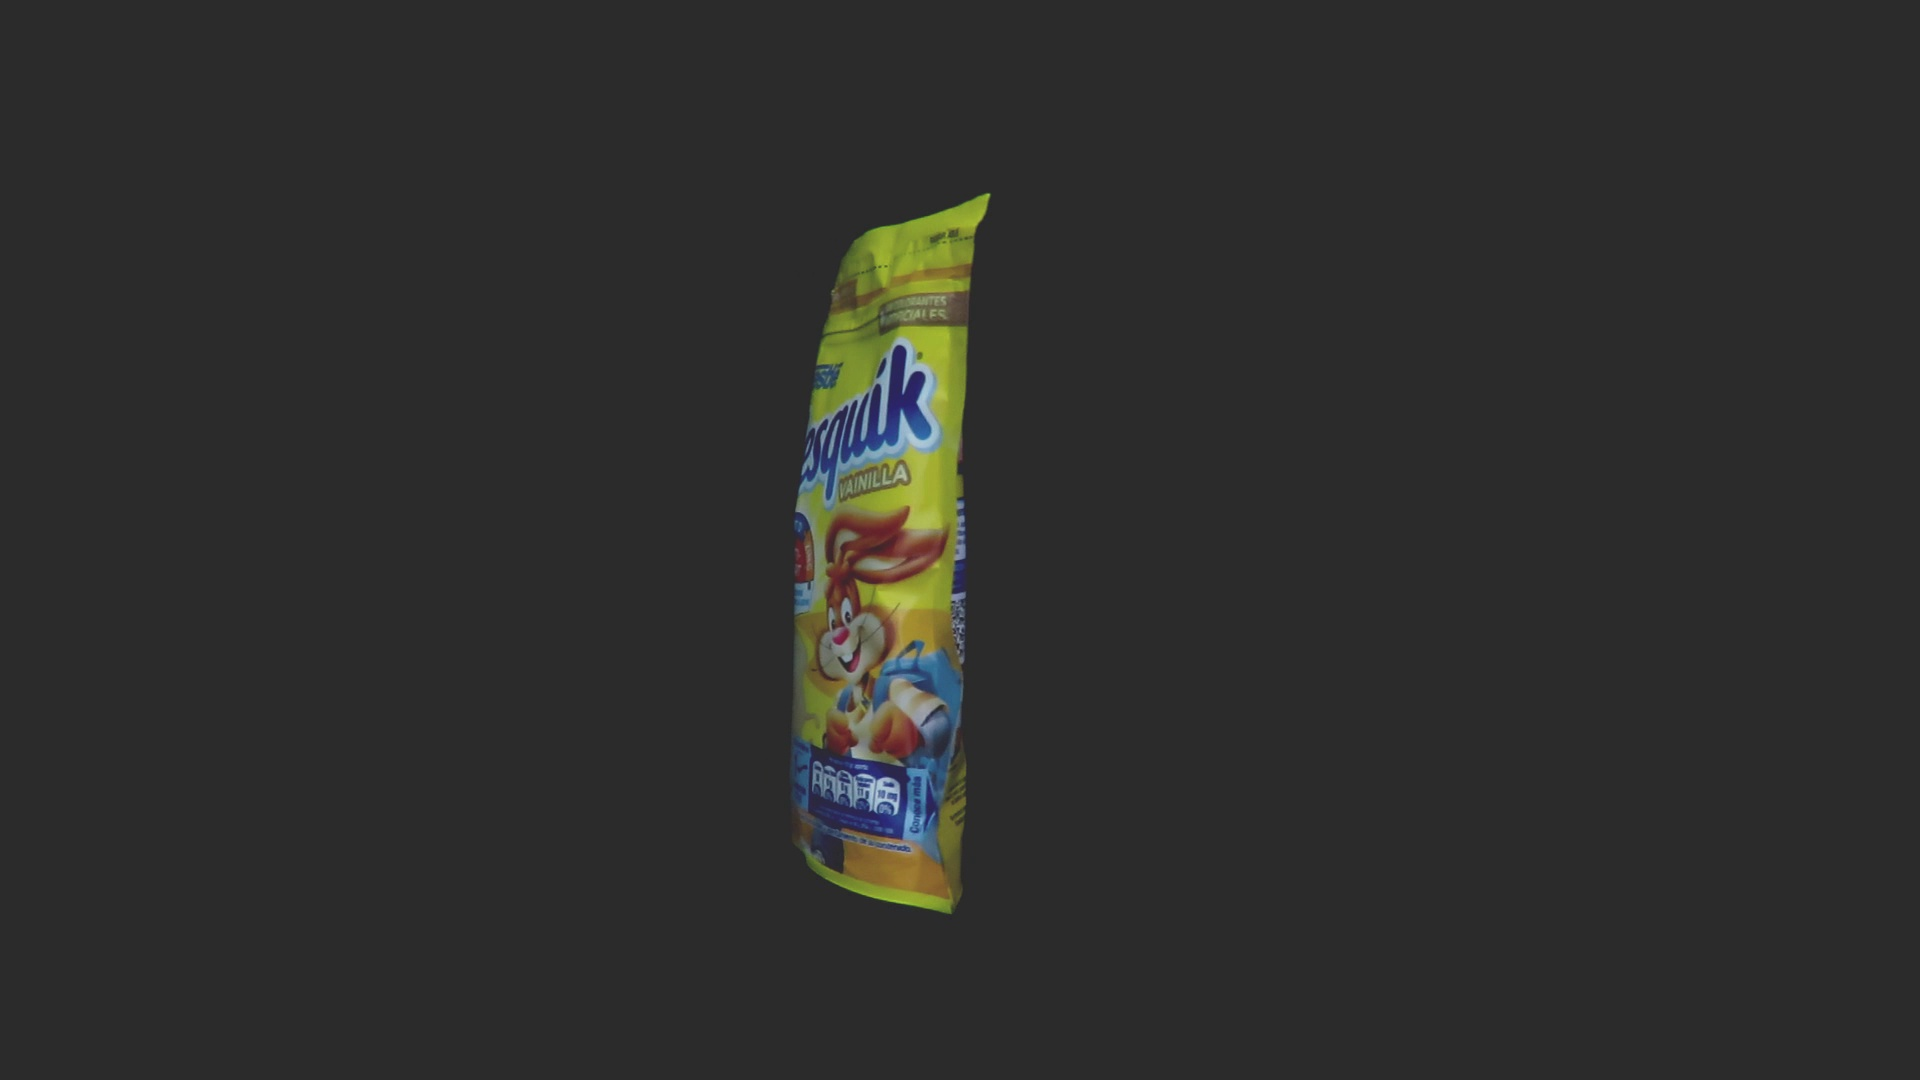COL0170306DYP20000: (785, 189, 996, 920)
